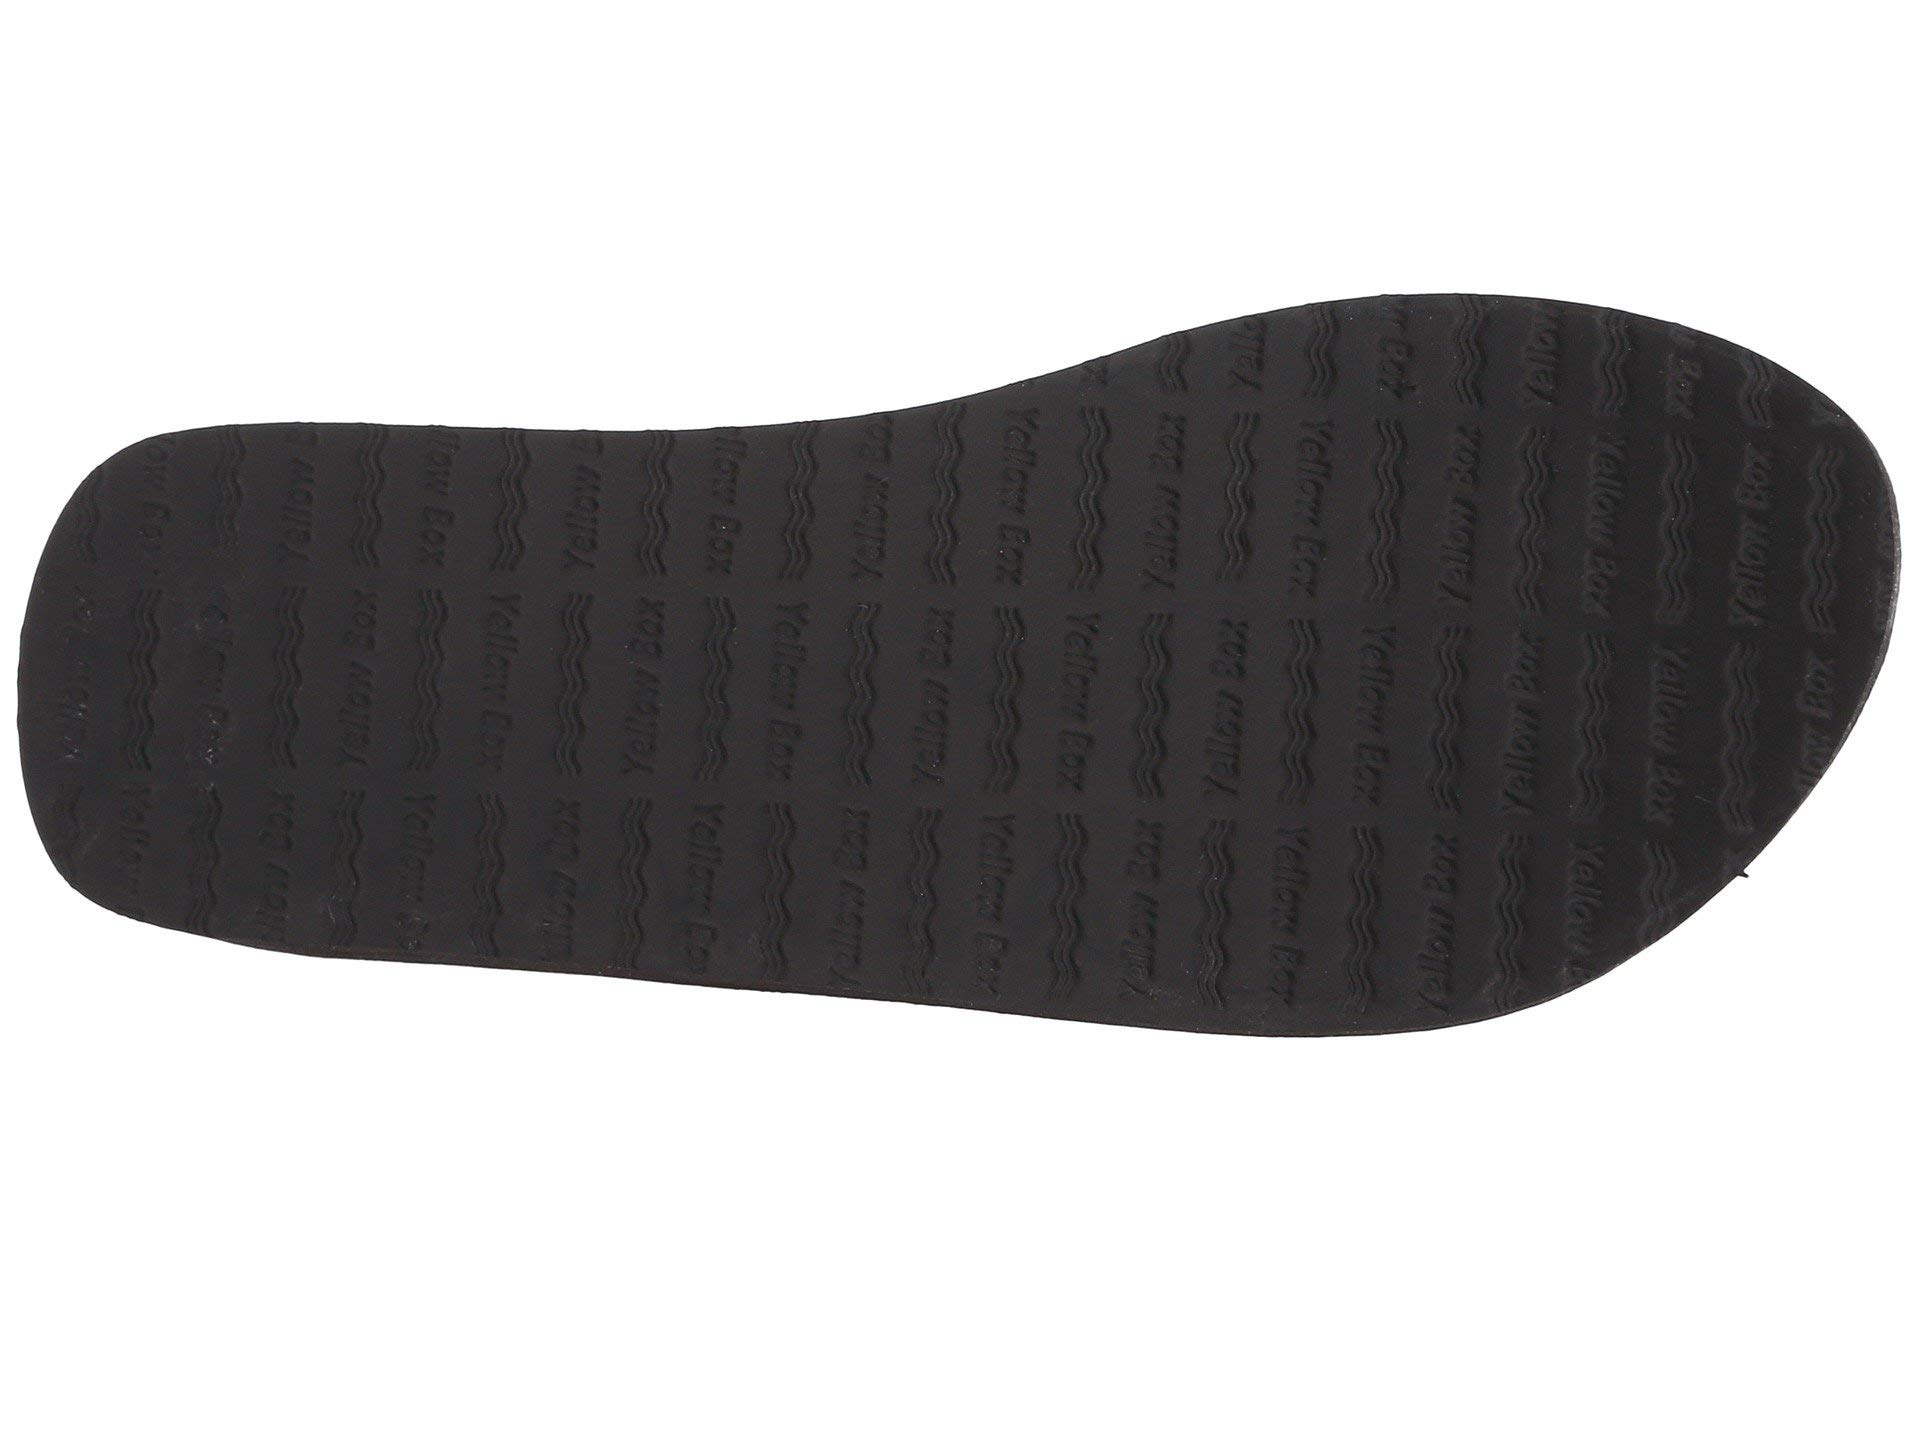chevron: (742, 582, 968, 802)
text: (742, 582, 968, 802)
